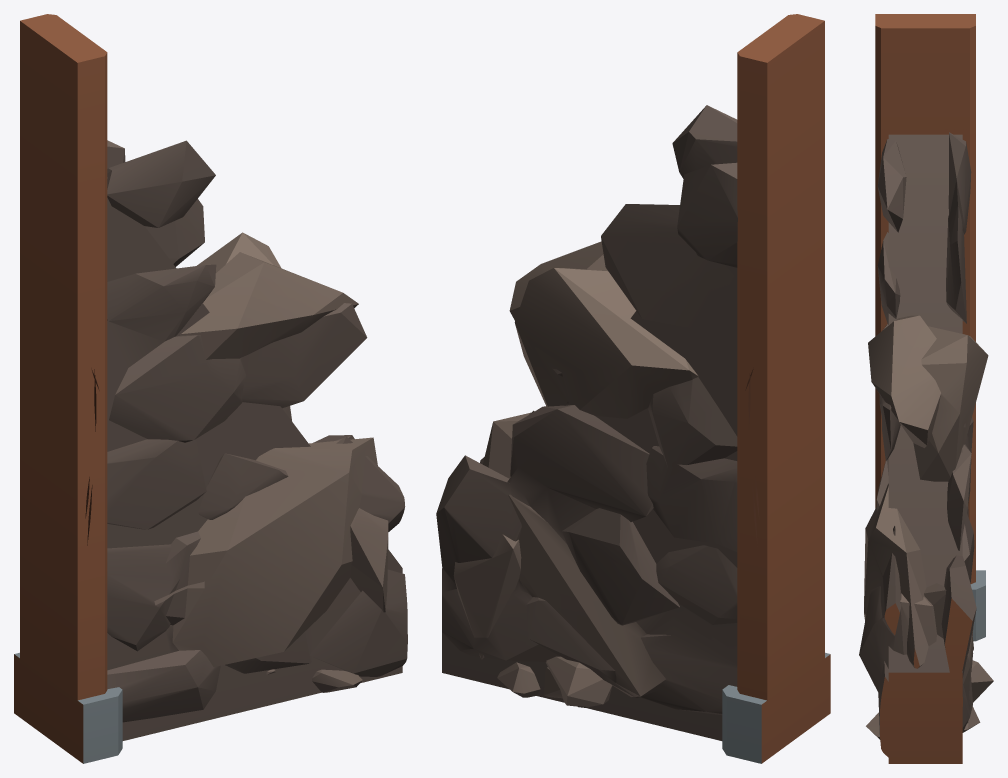
File: wall_cave_half_endcap_A.glb
3 renders of one model, left to right at view 1: azimuth 30°, elevation 25°; view 2: azimuth 150°, elevation 25°; view 3: azimuth 270°, elevation 25°, orthographic. The views are drawn at different scales.
Parts seen in each view (by area): view 1: Item; view 2: Item; view 3: Item.
Boxes of the visible parts, x1=… form: Item: x1=14, y1=14, x2=407, y2=763; Item: x1=436, y1=14, x2=830, y2=763; Item: x1=859, y1=14, x2=993, y2=763.
Size of the model in its own units: 2 by 4 by 0.8044.
1 material, 1 textured.
